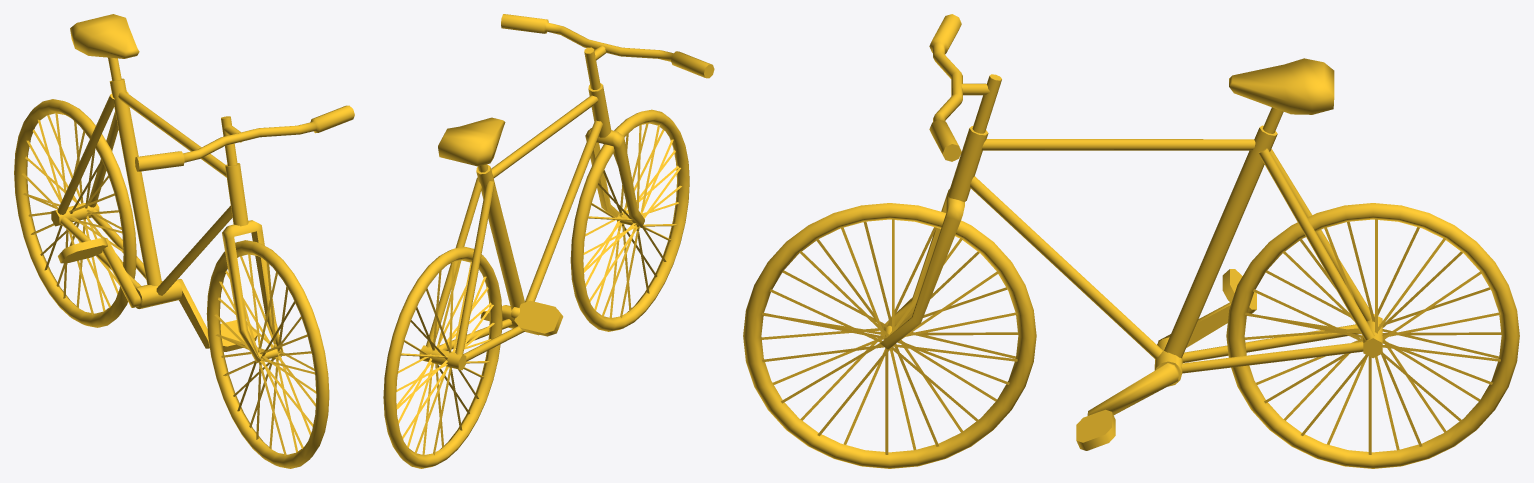
File: Bicycle.fbx
3 renders of one model, left to right at view 1: azimuth 30°, elevation 25°; view 2: azimuth 150°, elevation 25°; view 3: azimuth 270°, elevation 25°, orthographic. The views are drawn at different scales.
Visible parts, largest first — view 1: Bicycle; view 2: Bicycle; view 3: Bicycle.
Boxes of the visible parts, <box> form: Bicycle: <box>14,14,354,468</box>; Bicycle: <box>383,14,714,468</box>; Bicycle: <box>743,14,1519,468</box>.
Size of the model in its own units: 0.414 by 0.5802 by 1.03.
